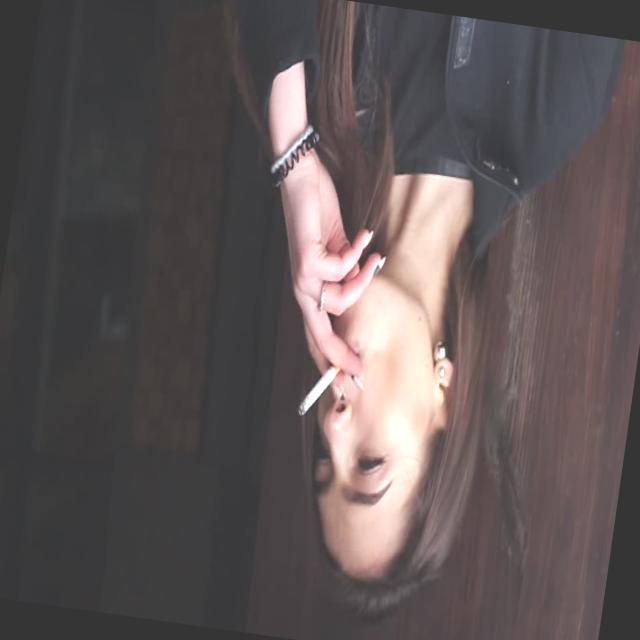smoke: (296, 351, 342, 418)
